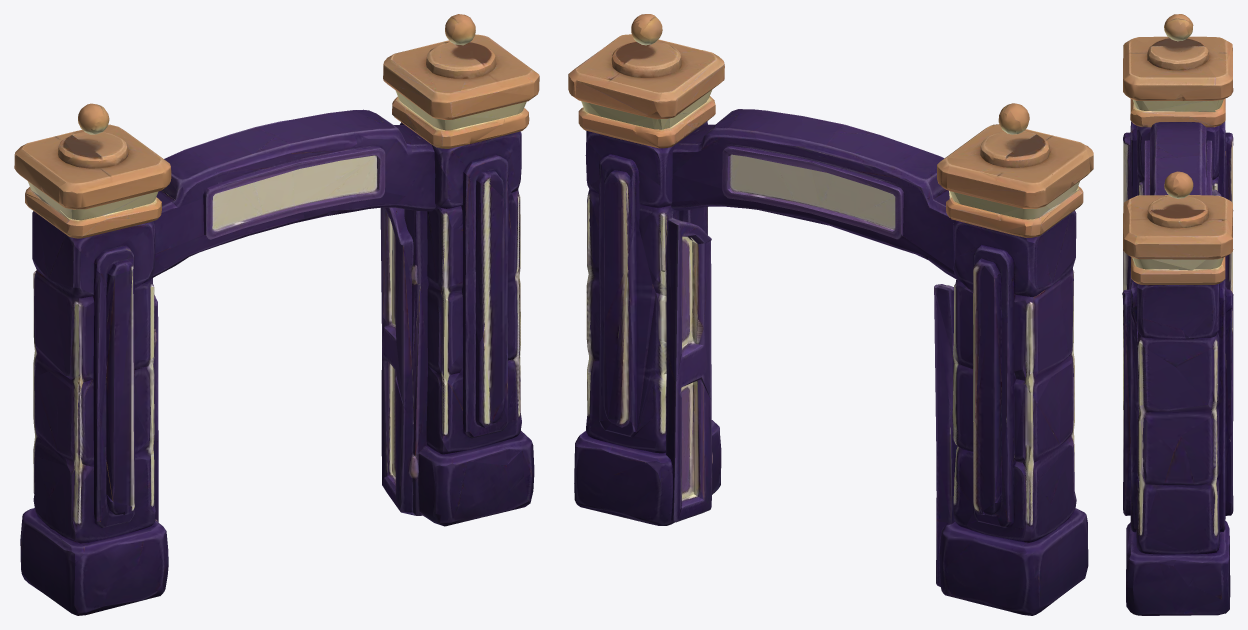
The model's file is campus-gate.glb.
The picture shows the model from 3 angles, left to right: view 1: azimuth 30°, elevation 25°; view 2: azimuth 150°, elevation 25°; view 3: azimuth 270°, elevation 25°; orthographic projection. The views are drawn at different scales.
Size of the model in its own units: 1.9 by 1.83 by 0.4359.
1 material, 1 textured.
